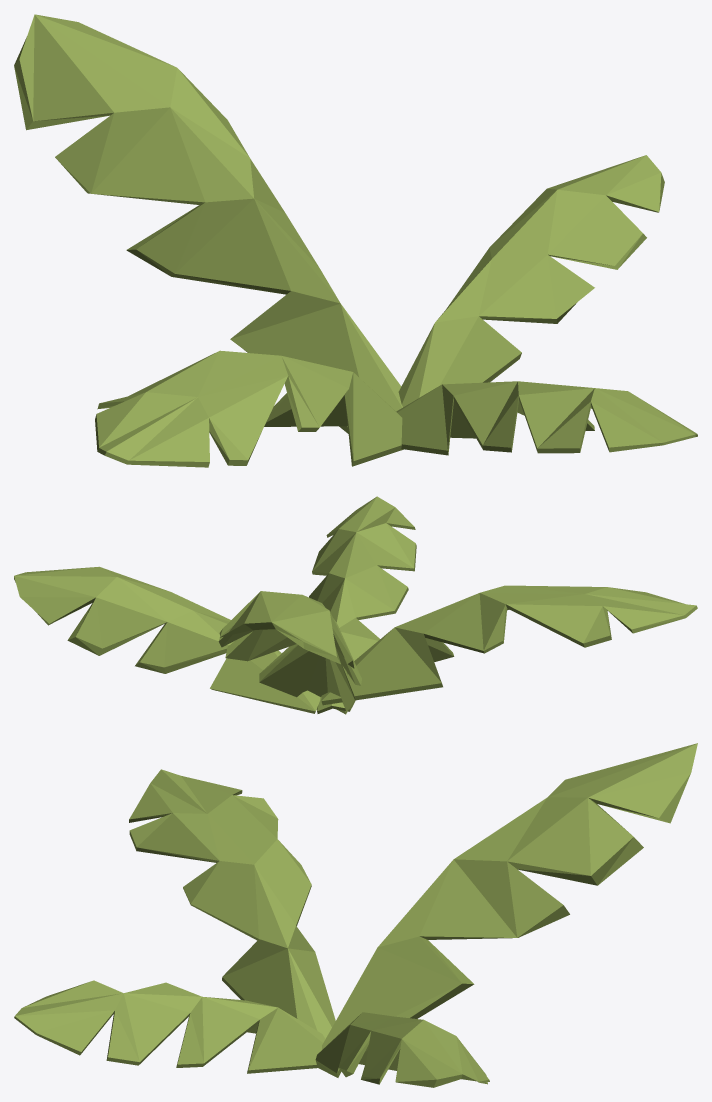
File: JunglePlant_01.glb
3 views of the same model, one above another, from view 1: azimuth 30°, elevation 25°; view 2: azimuth 150°, elevation 25°; view 3: azimuth 270°, elevation 25° (orthographic). The views are drawn at different scales.
Visible parts, largest first — view 1: JunglePlant_01; view 2: JunglePlant_01; view 3: JunglePlant_01.
Part boxes in pixels (x1,y1,x2,y2): JunglePlant_01: (14, 14, 697, 467); JunglePlant_01: (14, 496, 697, 714); JunglePlant_01: (14, 743, 697, 1087).
Size of the model in its own units: 1.7 by 0.7005 by 1.64.
Materials: 1 (1 with a texture image).
